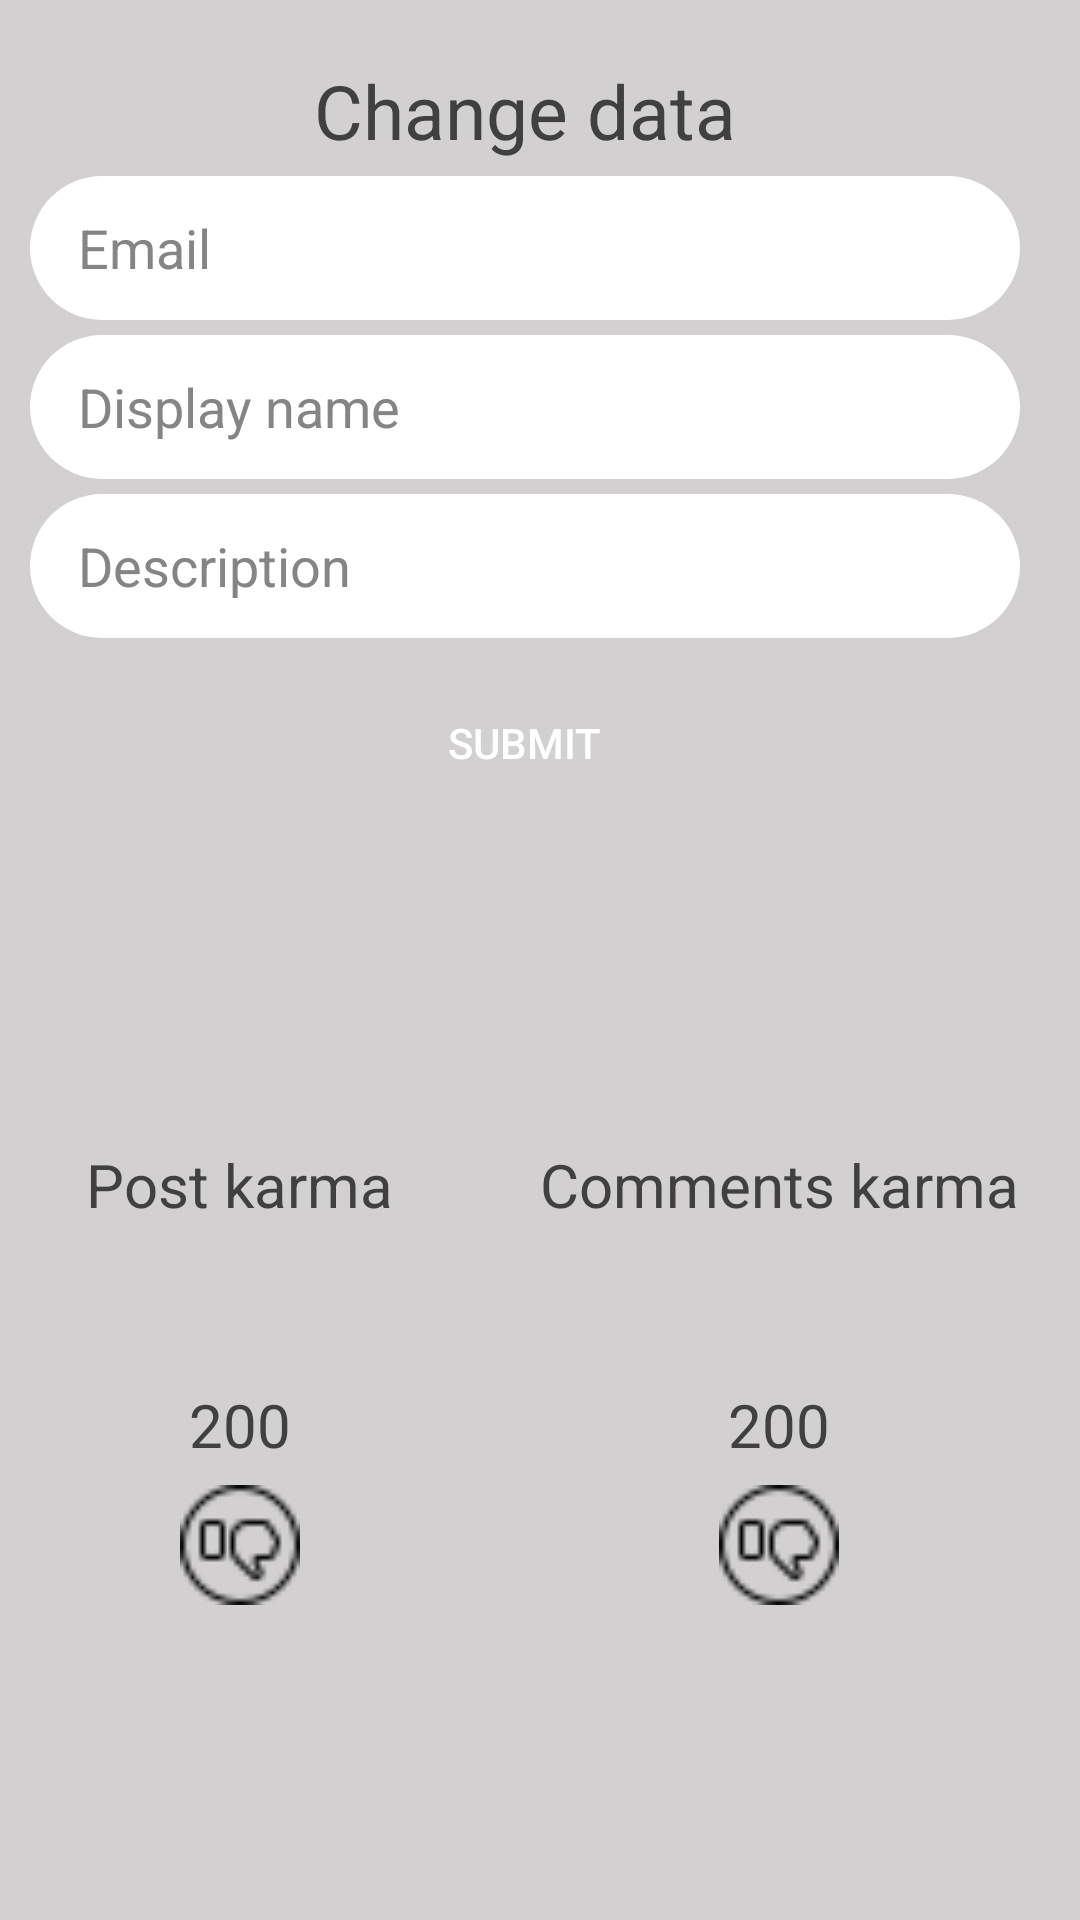

Screen size 1080w x 1920h. Icon name, then its center in pixels as [x,y]:
dislike: [240,1545], [779,1545]
